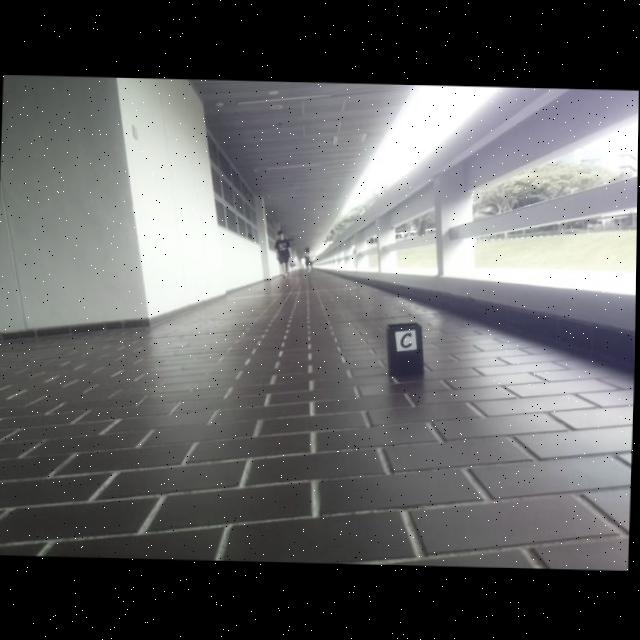C: (401, 331, 413, 348)
